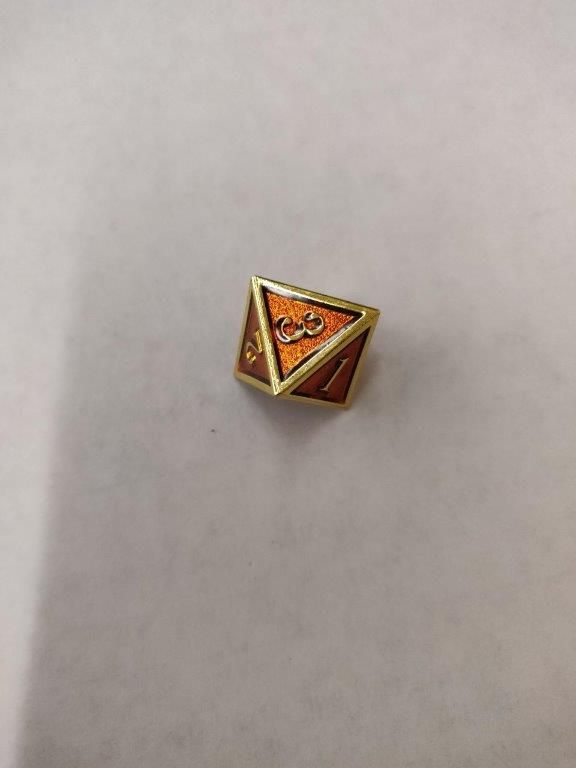d8-3: (228, 274, 381, 412)
